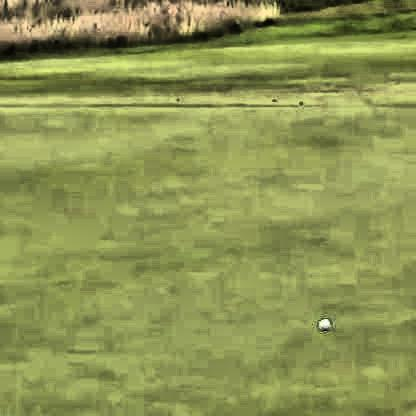golfball: (316, 316, 328, 330)
